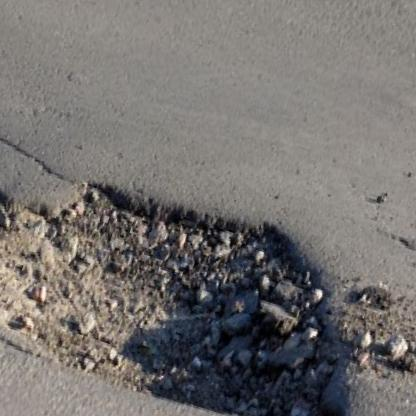pothole: (0, 131, 401, 416)
